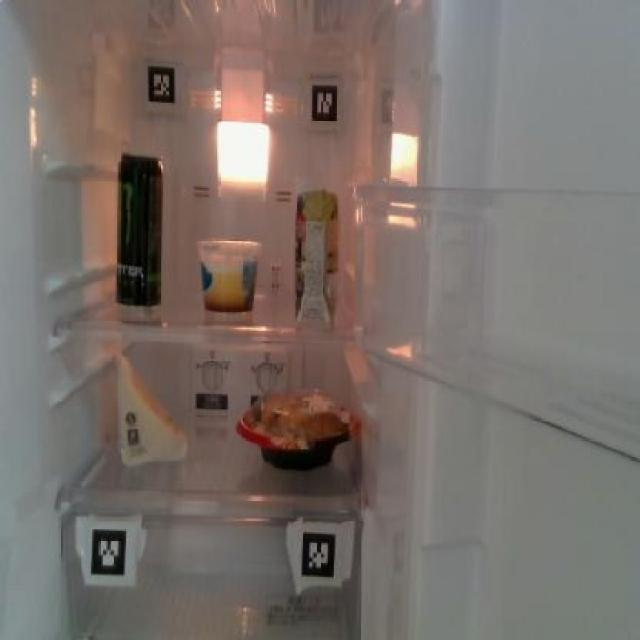bento: (236, 392, 362, 470)
energy_drink: (113, 151, 165, 311)
pudding: (192, 234, 263, 314)
sandwich: (108, 342, 188, 473)
smoothie: (293, 169, 339, 328)
